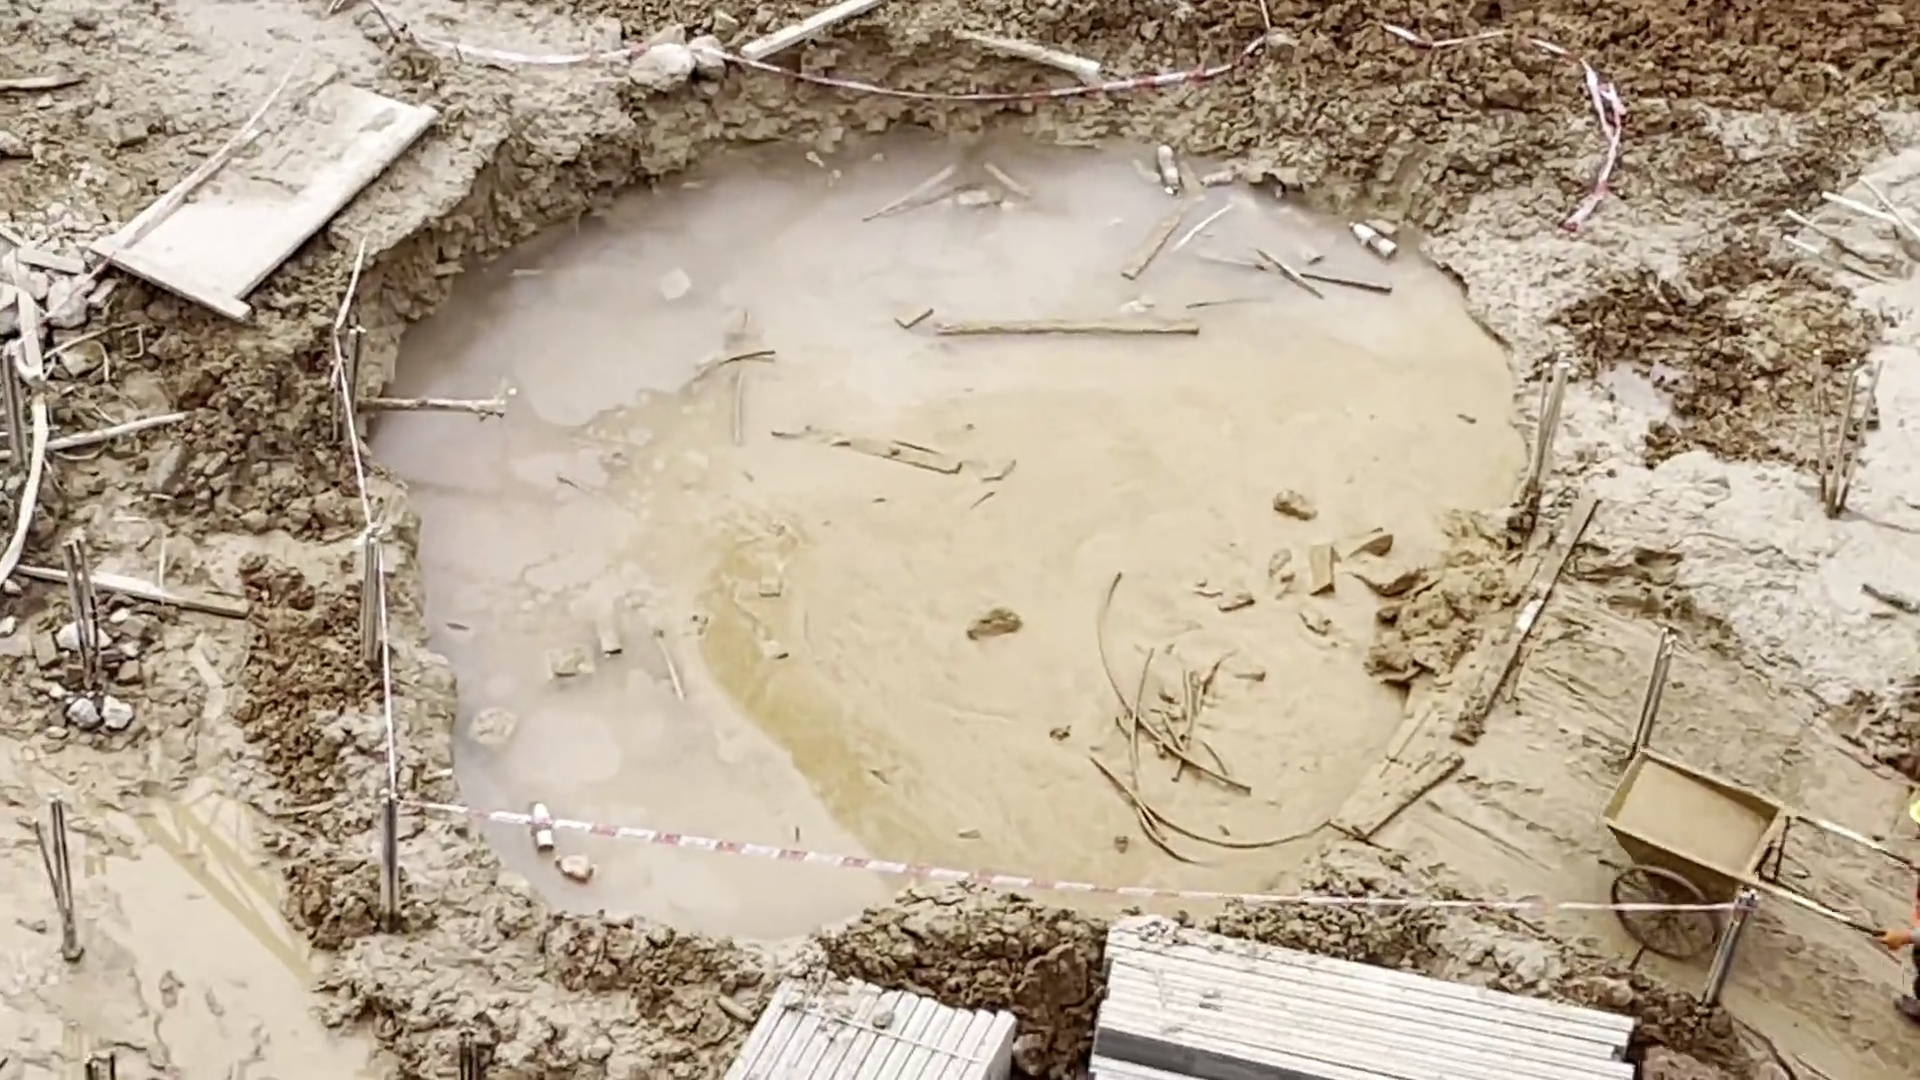handcart: (1611, 765, 1907, 975)
